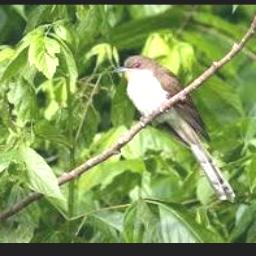Cuckoo: (117, 55, 238, 202)
